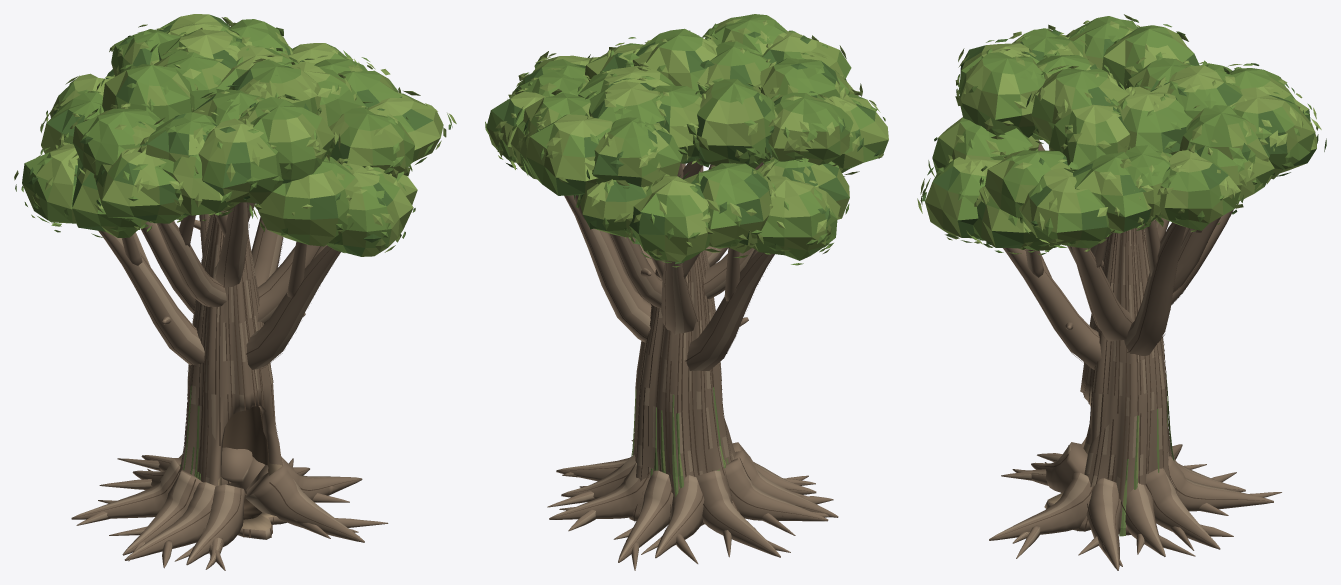
The picture shows the model from 3 angles, left to right: view 1: azimuth 30°, elevation 25°; view 2: azimuth 150°, elevation 25°; view 3: azimuth 270°, elevation 25°; orthographic projection.
Parts seen in each view (by area): view 1: Ancient fluted trunk with open, thick-walled dwelling hollow, Individual folded broadleaf edge sprays, Uneven leafy crown 01, Uneven leafy crown 21, Uneven leafy crown 18, Uneven leafy crown 23, Uneven leafy crown 00, Uneven leafy crown 04, Heavy asymmetric bough 05, Uneven leafy crown 26, Heavy asymmetric bough 00, Split vertical bark grain (+32 smaller); view 2: Ancient fluted trunk with open, thick-walled dwelling hollow, Individual folded broadleaf edge sprays, Uneven leafy crown 26, Uneven leafy crown 12, Uneven leafy crown 09, Uneven leafy crown 15, Uneven leafy crown 14, Uneven leafy crown 11, Uneven leafy crown 19, Split vertical bark grain, Heavy asymmetric bough 02, Heavy asymmetric bough 05 (+31 smaller); view 3: Ancient fluted trunk with open, thick-walled dwelling hollow, Individual folded broadleaf edge sprays, Uneven leafy crown 23, Uneven leafy crown 03, Uneven leafy crown 06, Split vertical bark grain, Heavy asymmetric bough 02, Uneven leafy crown 00, Uneven leafy crown 25, Uneven leafy crown 09, Uneven leafy crown 30, Heavy asymmetric bough 00 (+28 smaller).
Part boxes in pixels (bbox=[...]): Ancient fluted trunk with open, thick-walled dwelling hollow: bbox=[180, 214, 286, 539]; Individual folded broadleaf edge sprays: bbox=[14, 17, 456, 252]; Uneven leafy crown 01: bbox=[256, 157, 358, 246]; Uneven leafy crown 21: bbox=[198, 118, 282, 204]; Uneven leafy crown 18: bbox=[94, 145, 184, 223]; Uneven leafy crown 23: bbox=[238, 97, 334, 183]; Uneven leafy crown 00: bbox=[326, 162, 413, 256]; Uneven leafy crown 04: bbox=[327, 107, 414, 173]; Heavy asymmetric bough 05: bbox=[98, 230, 204, 365]; Uneven leafy crown 26: bbox=[102, 64, 194, 122]; Heavy asymmetric bough 00: bbox=[246, 245, 340, 369]; Split vertical bark grain: bbox=[179, 210, 282, 537]; Ancient fluted trunk with open, thick-walled dwelling hollow: bbox=[629, 163, 740, 526]; Individual folded broadleaf edge sprays: bbox=[485, 18, 885, 267]; Uneven leafy crown 26: bbox=[696, 79, 775, 168]; Uneven leafy crown 12: bbox=[629, 176, 709, 262]; Uneven leafy crown 09: bbox=[526, 114, 612, 195]; Uneven leafy crown 15: bbox=[752, 175, 840, 260]; Uneven leafy crown 14: bbox=[683, 163, 771, 248]; Uneven leafy crown 11: bbox=[592, 117, 682, 187]; Uneven leafy crown 19: bbox=[768, 92, 853, 165]; Split vertical bark grain: bbox=[633, 250, 738, 525]; Heavy asymmetric bough 02: bbox=[564, 195, 651, 342]; Heavy asymmetric bough 05: bbox=[686, 252, 774, 370]; Ancient fluted trunk with open, thick-walled dwelling hollow: bbox=[1044, 225, 1172, 535]; Individual folded broadleaf edge sprays: bbox=[917, 14, 1326, 254]; Uneven leafy crown 23: bbox=[960, 52, 1045, 137]; Uneven leafy crown 03: bbox=[1019, 168, 1111, 248]; Uneven leafy crown 06: bbox=[1159, 150, 1240, 230]; Split vertical bark grain: bbox=[1047, 226, 1170, 531]; Heavy asymmetric bough 02: bbox=[1124, 222, 1185, 355]; Uneven leafy crown 00: bbox=[925, 157, 1001, 239]; Uneven leafy crown 25: bbox=[1031, 68, 1129, 144]; Uneven leafy crown 09: bbox=[1232, 87, 1315, 179]; Uneven leafy crown 30: bbox=[1049, 104, 1130, 170]; Heavy asymmetric bough 00: bbox=[1003, 248, 1102, 369].
Size of the model in its own units: 8.37 by 9.88 by 8.16.
